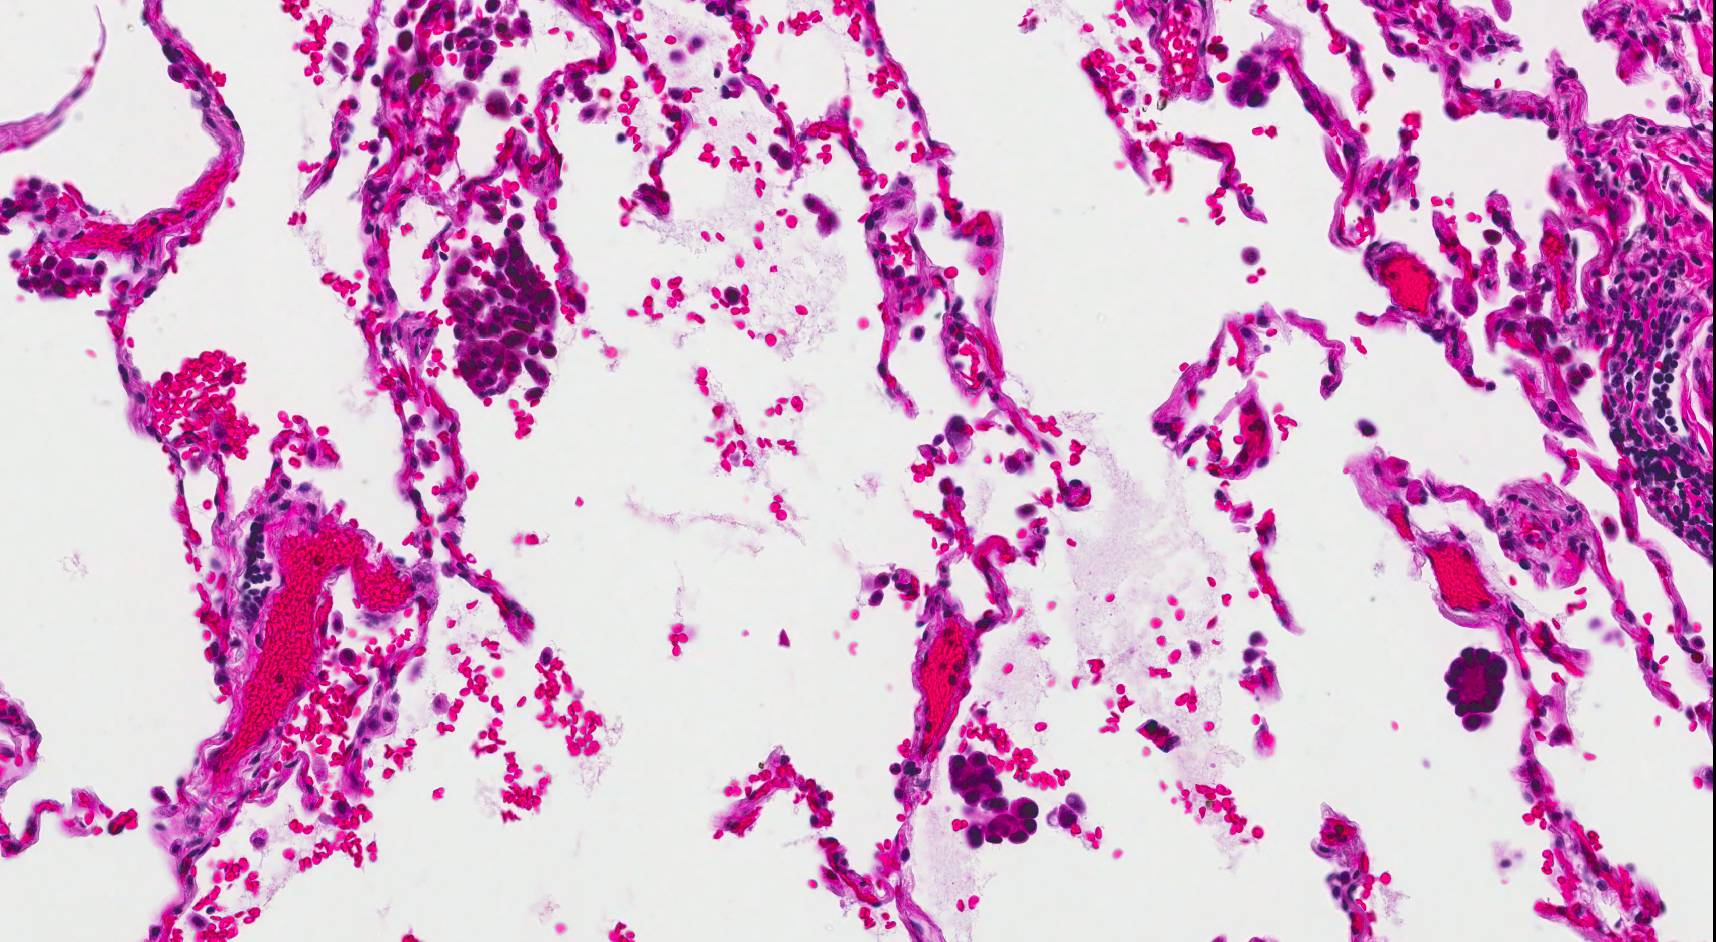stas: (943, 751, 1041, 850), (1445, 641, 1511, 732), (1227, 50, 1283, 107), (1043, 792, 1087, 832)
